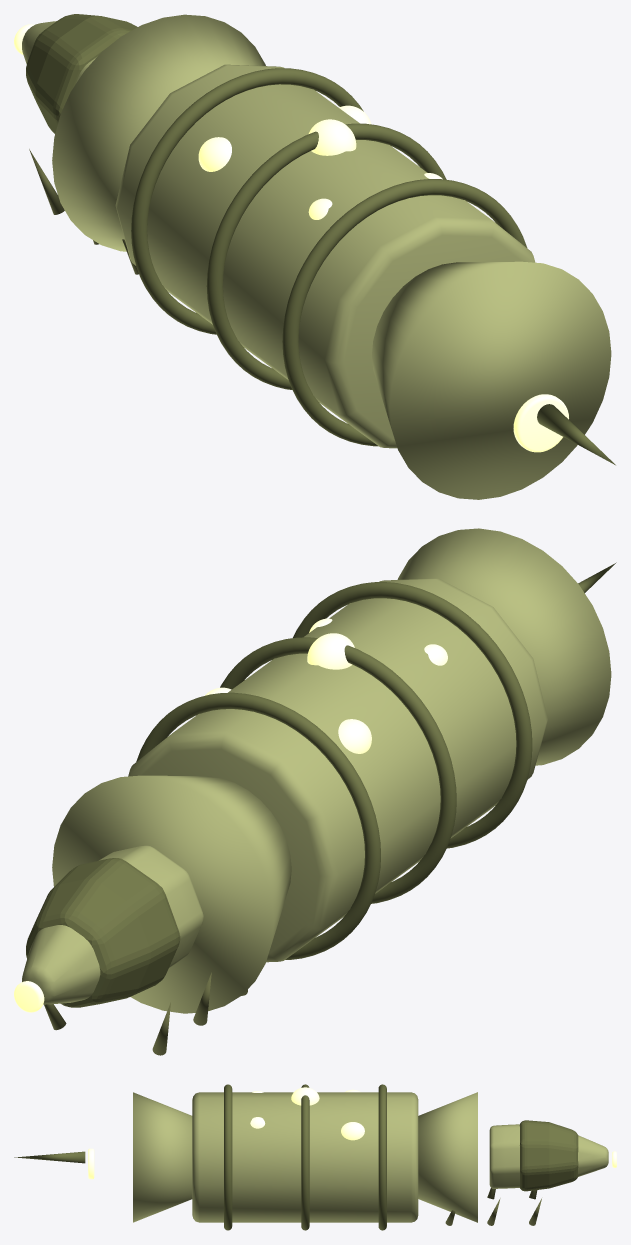
The model's file is krithul-freighter.glb.
3 views of the same model, one above another, from view 1: azimuth 30°, elevation 25°; view 2: azimuth 150°, elevation 25°; view 3: azimuth 270°, elevation 25° (orthographic). The views are drawn at different scales.
Parts seen in each view (by area): view 1: Cylinder.001, Cone.001, Cone, Torus.002, Torus, Torus.001, hull.001, Cylinder.002, Sphere.004, Cone.008, Sphere; view 2: Cylinder.001, Cone, Cone.001, hull.001, hull, Torus, Torus.002, Torus.001, Sphere.004, Sphere, Cylinder; view 3: Cylinder.001, Cone.001, Cone, hull.001, hull, Torus, Torus.002, Torus.001, Cone.008, Sphere.004, Sphere.001.
Boxes of the visible parts, bbox=[...] form: Cylinder.001: bbox=[115, 64, 535, 448]; Cone.001: bbox=[372, 261, 611, 499]; Cone: bbox=[52, 14, 265, 251]; Torus.002: bbox=[282, 179, 527, 446]; Torus: bbox=[131, 68, 363, 334]; Torus.001: bbox=[206, 123, 446, 389]; hull.001: bbox=[26, 14, 137, 133]; Cylinder.002: bbox=[513, 394, 568, 452]; Sphere.004: bbox=[308, 119, 356, 155]; Cone.008: bbox=[537, 404, 615, 465]; Sphere: bbox=[198, 137, 231, 171]; Cylinder.001: bbox=[128, 578, 547, 962]; Cone: bbox=[52, 775, 291, 1013]; Cone.001: bbox=[397, 528, 611, 765]; hull.001: bbox=[26, 858, 180, 1007]; hull: bbox=[22, 845, 203, 1004]; Torus: bbox=[136, 692, 380, 959]; Torus.002: bbox=[293, 582, 532, 848]; Torus.001: bbox=[220, 637, 456, 903]; Sphere.004: bbox=[307, 633, 354, 669]; Sphere: bbox=[338, 719, 371, 753]; Cylinder: bbox=[14, 981, 44, 1012]; Cylinder.001: bbox=[192, 1092, 418, 1222]; Cone.001: bbox=[133, 1092, 192, 1222]; Cone: bbox=[418, 1092, 477, 1222]; hull.001: bbox=[519, 1120, 578, 1191]; hull: bbox=[489, 1124, 608, 1188]; Torus: bbox=[378, 1084, 386, 1230]; Torus.002: bbox=[224, 1084, 232, 1230]; Torus.001: bbox=[301, 1084, 309, 1230]; Cone.008: bbox=[14, 1151, 85, 1163]; Sphere.004: bbox=[291, 1087, 319, 1105]; Sphere.001: bbox=[341, 1122, 364, 1140].
Bounding box in the file's own units: 1.23 × 1.26 × 5.07.
